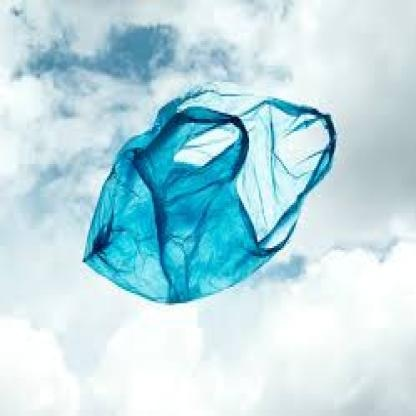trash: (83, 87, 335, 302)
